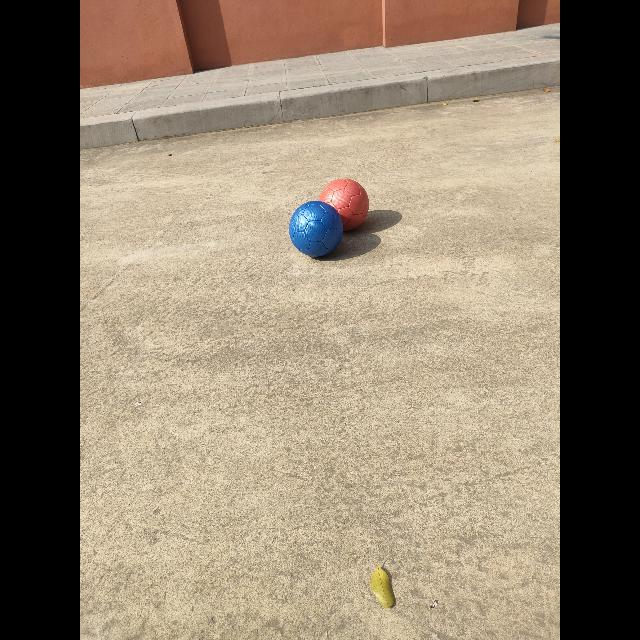B: (289, 200, 344, 258)
R: (320, 179, 369, 231)
